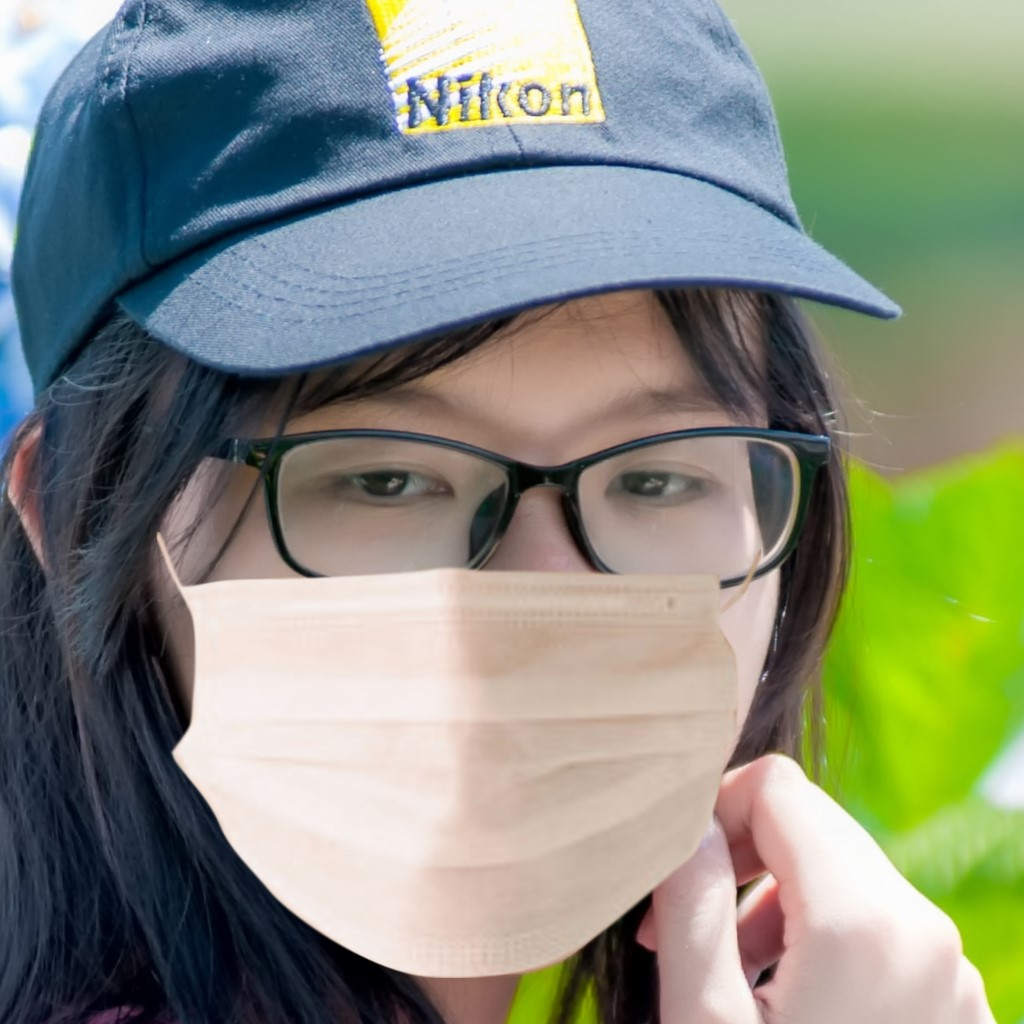con_mascara: (97, 170, 783, 988)
